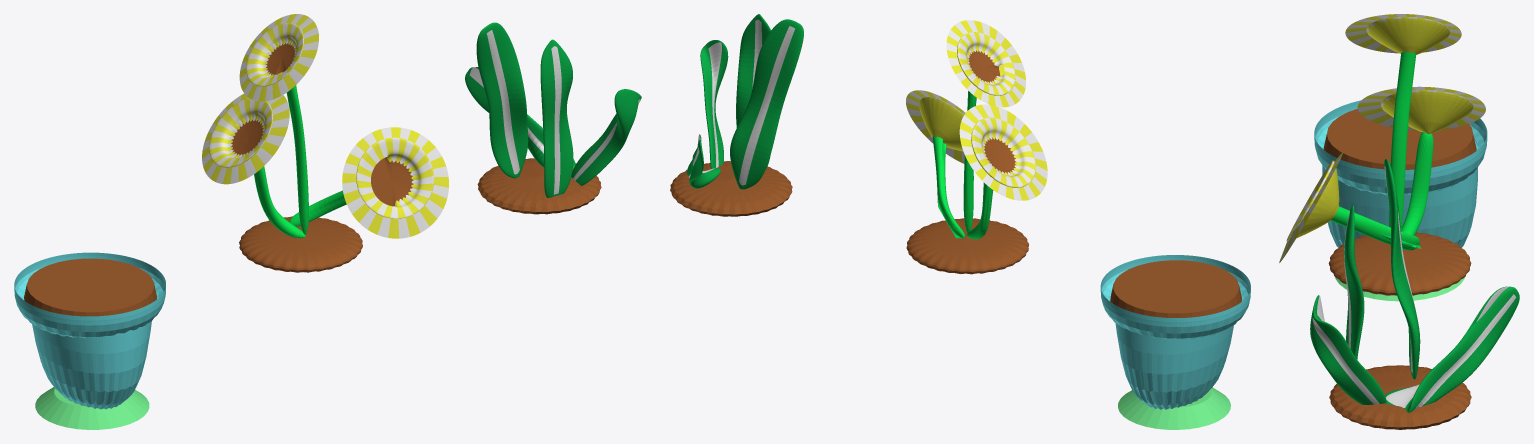
File: Pot_Flower_Leaf.fbx
3 renders of one model, left to right at view 1: azimuth 30°, elevation 25°; view 2: azimuth 150°, elevation 25°; view 3: azimuth 270°, elevation 25°, orthographic. The views are drawn at different scales.
Parts seen in each view (by area): view 1: Cylinder.005, Cube.001, Cylinder, Cylinder.002, Cylinder.003, Cylinder.001; view 2: Cylinder.005, Cylinder, Cube.001, Cylinder.002, Cylinder.003, Cylinder.001; view 3: Cylinder.005, Cube.001, Cylinder, Cylinder.002, Cylinder.003, Cylinder.001.
Part boxes in pixels (left/top/right/bottom): Cylinder.005: left=202, top=14, right=448, bottom=272; Cube.001: left=465, top=22, right=641, bottom=197; Cylinder: left=14, top=252, right=165, bottom=409; Cylinder.002: left=24, top=258, right=156, bottom=316; Cylinder.003: left=477, top=158, right=601, bottom=214; Cylinder.001: left=35, top=387, right=149, bottom=429; Cylinder.005: left=906, top=20, right=1047, bottom=274; Cylinder: left=1100, top=255, right=1250, bottom=409; Cube.001: left=687, top=14, right=803, bottom=189; Cylinder.002: left=1110, top=260, right=1241, bottom=317; Cylinder.003: left=670, top=161, right=792, bottom=216; Cylinder.001: left=1118, top=387, right=1230, bottom=429; Cylinder.005: left=1279, top=14, right=1485, bottom=295; Cube.001: left=1310, top=159, right=1519, bottom=412; Cylinder: left=1314, top=100, right=1487, bottom=247; Cylinder.002: left=1323, top=109, right=1476, bottom=169; Cylinder.003: left=1329, top=365, right=1471, bottom=429; Cylinder.001: left=1335, top=277, right=1464, bottom=301.
Bounding box in the file's own units: 239 × 132 × 74.76.
